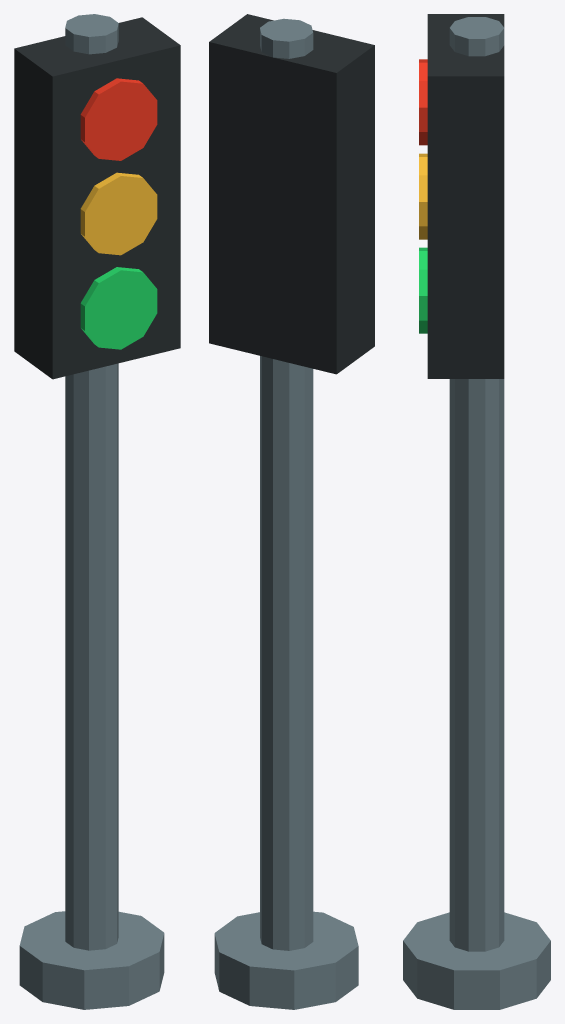
Rendered from Street_TrafficLight.glb.
3 views of the same model, side by side, from view 1: azimuth 30°, elevation 25°; view 2: azimuth 150°, elevation 25°; view 3: azimuth 270°, elevation 25° (orthographic).
Parts seen in each view (by area): view 1: FTF_Street_TrafficLight_4m_Mesh; view 2: FTF_Street_TrafficLight_4m_Mesh; view 3: FTF_Street_TrafficLight_4m_Mesh.
Part boxes in pixels (<box>): FTF_Street_TrafficLight_4m_Mesh: <box>14,14,180,1009</box>; FTF_Street_TrafficLight_4m_Mesh: <box>209,14,374,1009</box>; FTF_Street_TrafficLight_4m_Mesh: <box>403,14,550,1009</box>.
Bounding box in the file's own units: 0.54 × 3.84 × 0.54.
